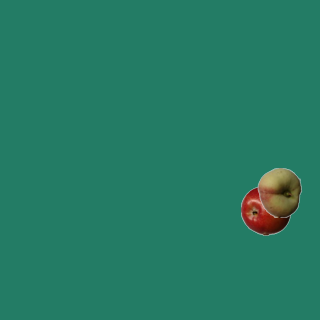Apple Braeburn: (240, 185, 290, 235)
Peach Flat: (254, 167, 304, 217)
